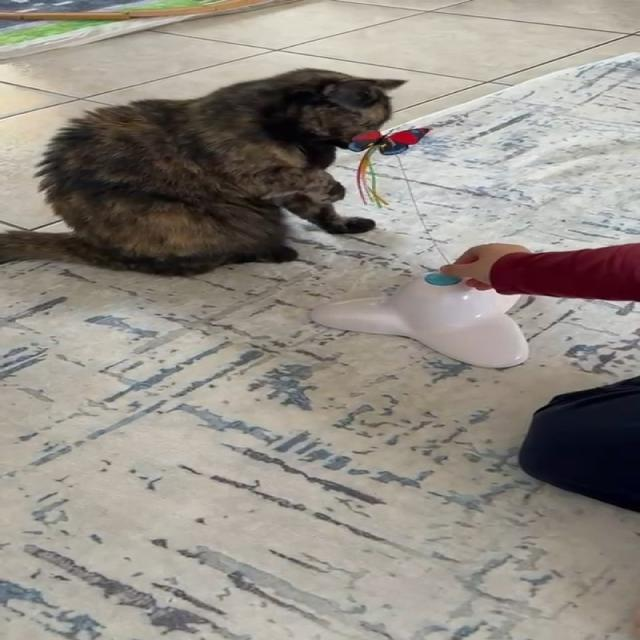authorized: (0, 66, 408, 277)
